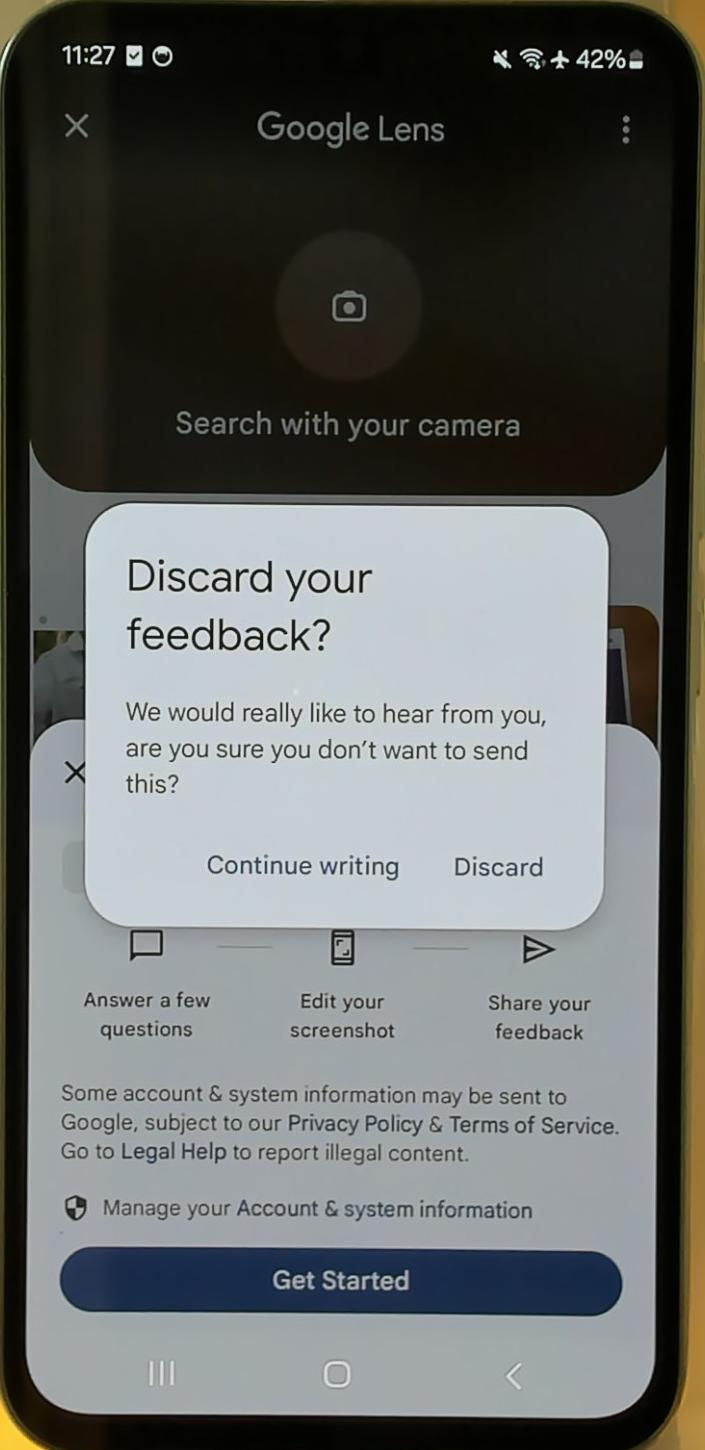CommunBotton: (57, 1242, 626, 1320), (203, 847, 404, 885), (448, 849, 548, 883), (52, 103, 95, 152), (498, 1355, 532, 1396), (140, 1356, 178, 1392), (321, 1357, 355, 1390)
menu: (610, 107, 641, 157)
